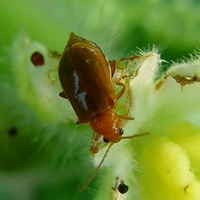insect: (58, 32, 148, 153)
